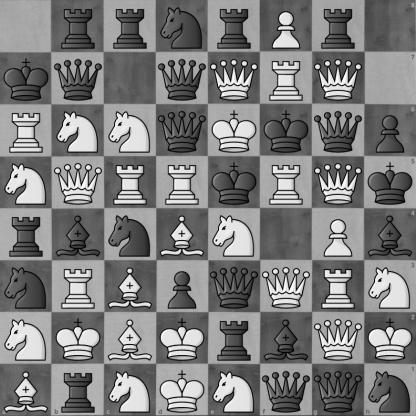B: (0, 364, 52, 416), (105, 261, 156, 312), (105, 313, 156, 364), (157, 209, 208, 260)
K: (156, 364, 209, 416), (364, 312, 416, 364), (53, 313, 104, 364), (157, 313, 208, 364), (209, 105, 260, 156)
N: (104, 364, 156, 416), (364, 260, 416, 312), (209, 364, 260, 416), (1, 157, 52, 208), (1, 313, 52, 364), (53, 105, 104, 156), (105, 105, 156, 156), (209, 209, 260, 260)
P: (261, 1, 312, 52), (313, 209, 364, 260)
Q: (53, 157, 104, 208), (209, 53, 260, 104), (261, 261, 312, 312), (313, 53, 364, 104), (313, 157, 364, 208), (313, 313, 364, 364)
R: (1, 105, 52, 156), (53, 261, 104, 312), (105, 157, 156, 208), (157, 157, 208, 208), (261, 53, 312, 104), (261, 157, 312, 208), (313, 261, 364, 312)
b: (364, 209, 416, 260), (53, 209, 104, 260), (261, 313, 312, 364)
board: (0, 0, 415, 415)
k: (364, 156, 416, 209), (1, 53, 52, 104), (209, 157, 260, 208), (261, 105, 312, 156)
n: (364, 364, 416, 416), (1, 261, 52, 312), (105, 209, 156, 260), (157, 1, 208, 52)
p: (364, 104, 416, 156), (157, 261, 208, 312)
q: (260, 364, 312, 416), (312, 364, 364, 416), (53, 53, 104, 104), (157, 53, 208, 104), (157, 105, 208, 156), (209, 261, 260, 312), (313, 105, 364, 156)
r: (52, 364, 104, 416), (1, 209, 52, 260), (53, 1, 104, 52), (105, 1, 156, 52), (209, 1, 260, 52), (209, 313, 260, 364), (313, 1, 364, 52)
